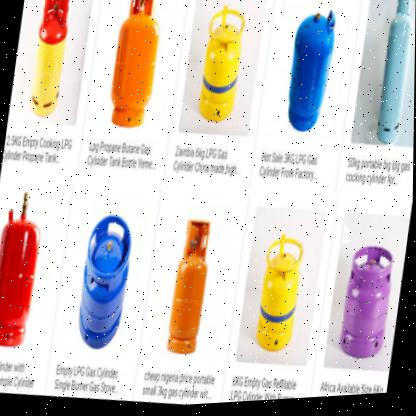gas-tank: (68, 210, 142, 361), (98, 0, 172, 142), (273, 4, 344, 148), (333, 235, 404, 373), (16, 0, 85, 131), (0, 187, 53, 356), (159, 221, 220, 364), (193, 1, 252, 142), (250, 236, 313, 364), (367, 1, 415, 165)
